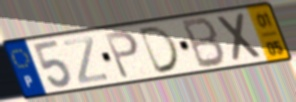5: (30, 38, 75, 90)
B: (180, 16, 228, 71)
D: (137, 23, 182, 76)
P: (102, 28, 141, 81)
X: (214, 11, 266, 65)
Z: (61, 35, 110, 86)
